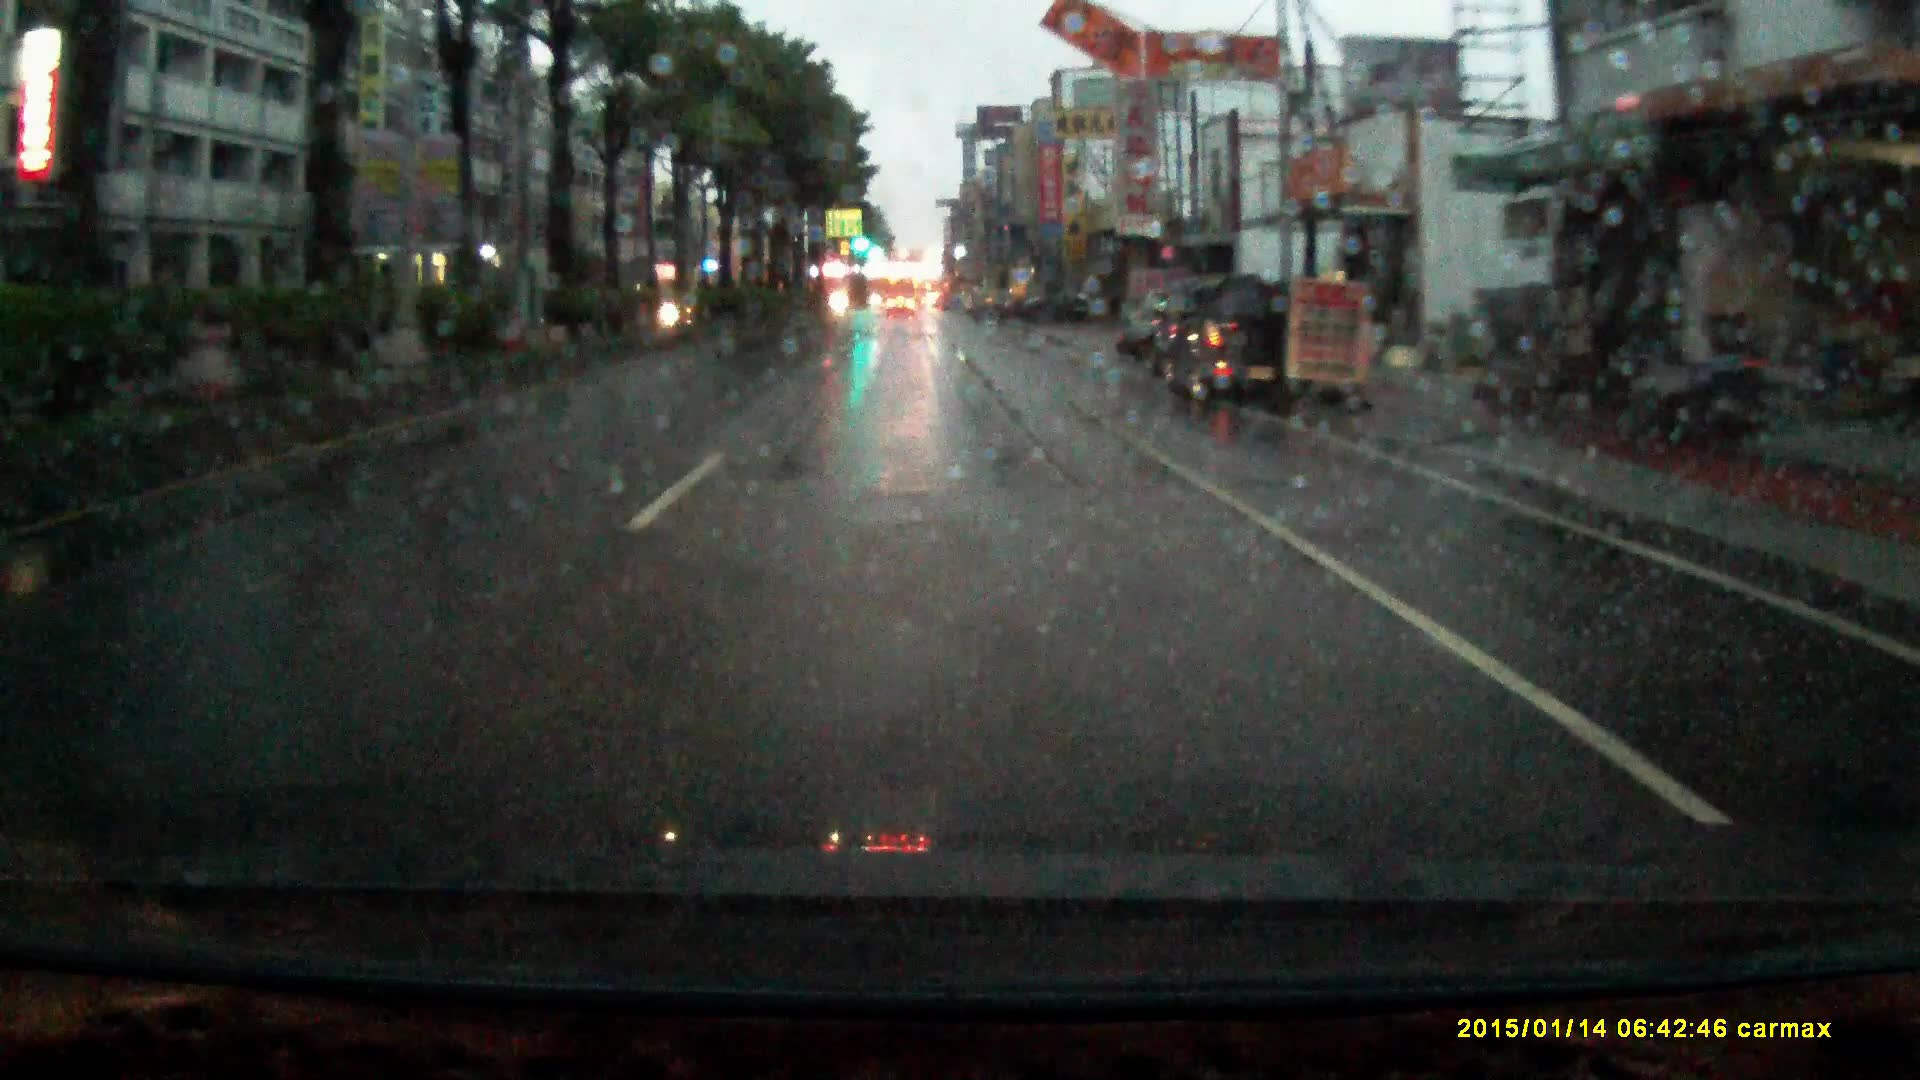vehicle: (1158, 266, 1333, 407), (886, 285, 918, 310)
